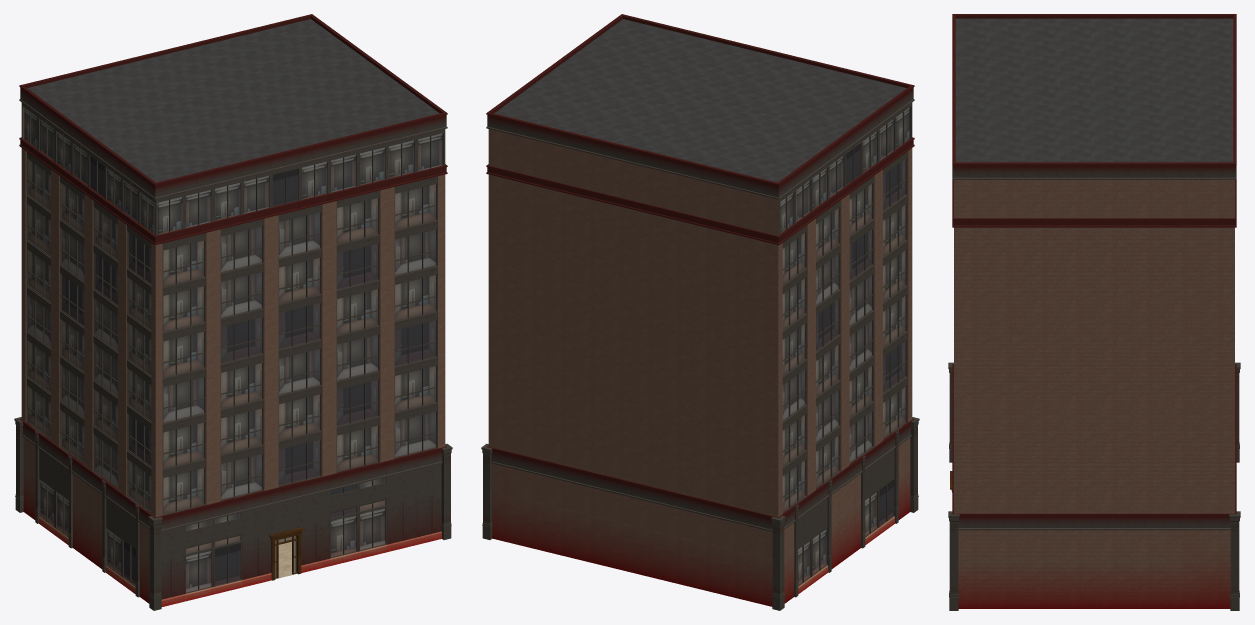
Rendered from Building_Large_2.glb.
3 views of the same model, side by side, from view 1: azimuth 30°, elevation 25°; view 2: azimuth 150°, elevation 25°; view 3: azimuth 270°, elevation 25° (orthographic). The views are drawn at different scales.
Visible parts, largest first — view 1: Building_Large_2; view 2: Building_Large_2; view 3: Building_Large_2.
Part boxes in pixels (bbox=[...]): Building_Large_2: bbox=[14, 14, 452, 610]; Building_Large_2: bbox=[481, 14, 919, 610]; Building_Large_2: bbox=[948, 14, 1240, 610].
Bounding box in the file's own units: 20.64 × 28 × 16.64.
Materials: 9 (8 with a texture image).
